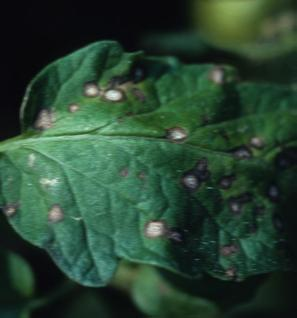Tomato Septoria leaf spot: (0, 42, 297, 310)
